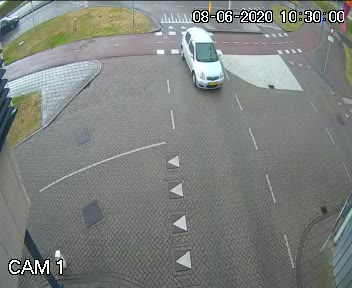car: (171, 18, 243, 100)
